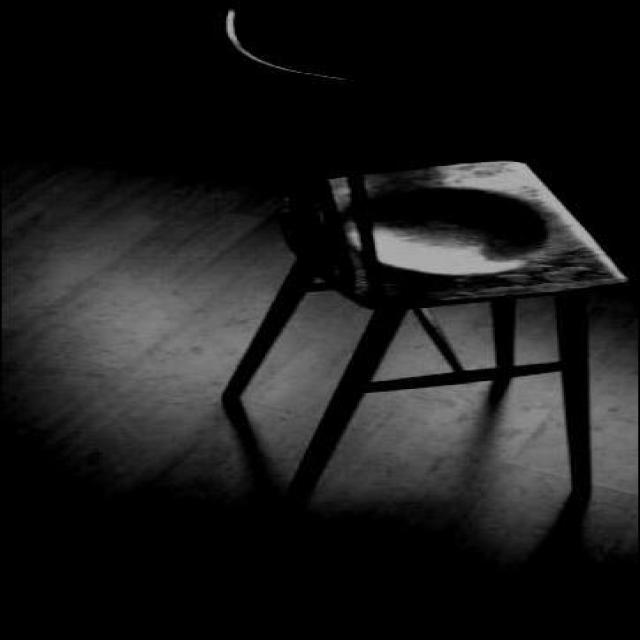chair: (204, 0, 614, 607)
